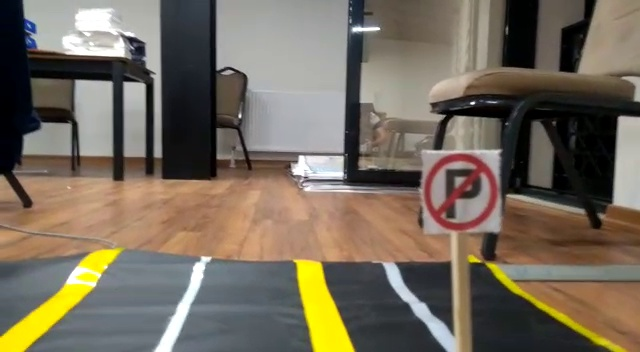park_yapilmaz: (418, 151, 502, 231)
